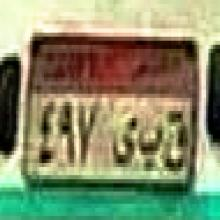4: (38, 100, 55, 166)
7: (77, 103, 99, 162)
9: (59, 99, 76, 165)
baa: (138, 126, 162, 170)
qaaf: (162, 110, 191, 174)
yaa: (112, 113, 138, 168)
